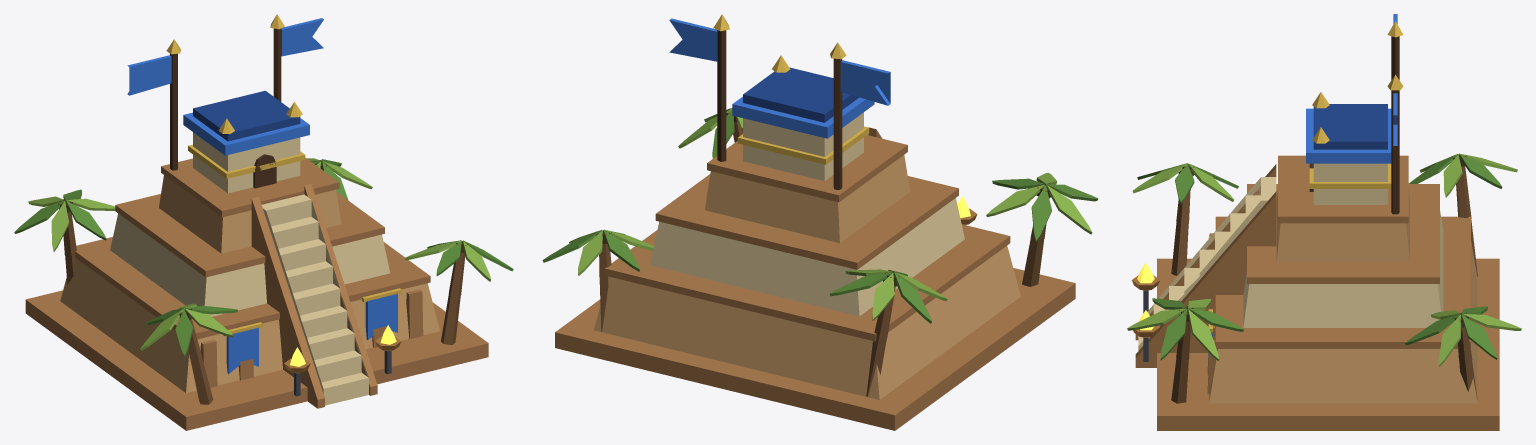
Rendered from city_center_0.glb.
The picture shows the model from 3 angles, left to right: view 1: azimuth 30°, elevation 25°; view 2: azimuth 150°, elevation 25°; view 3: azimuth 270°, elevation 25°; orthographic projection. The views are drawn at different scales.
Parts seen in each view (by area): view 1: city_center_0; view 2: city_center_0; view 3: city_center_0.
Boxes of the visible parts, left/top/right/bottom form: city_center_0: left=14, top=14, right=513, bottom=430; city_center_0: left=542, top=14, right=1098, bottom=430; city_center_0: left=1127, top=14, right=1521, bottom=430.
Size of the model in its own units: 0.5946 by 0.4512 by 0.5301.
